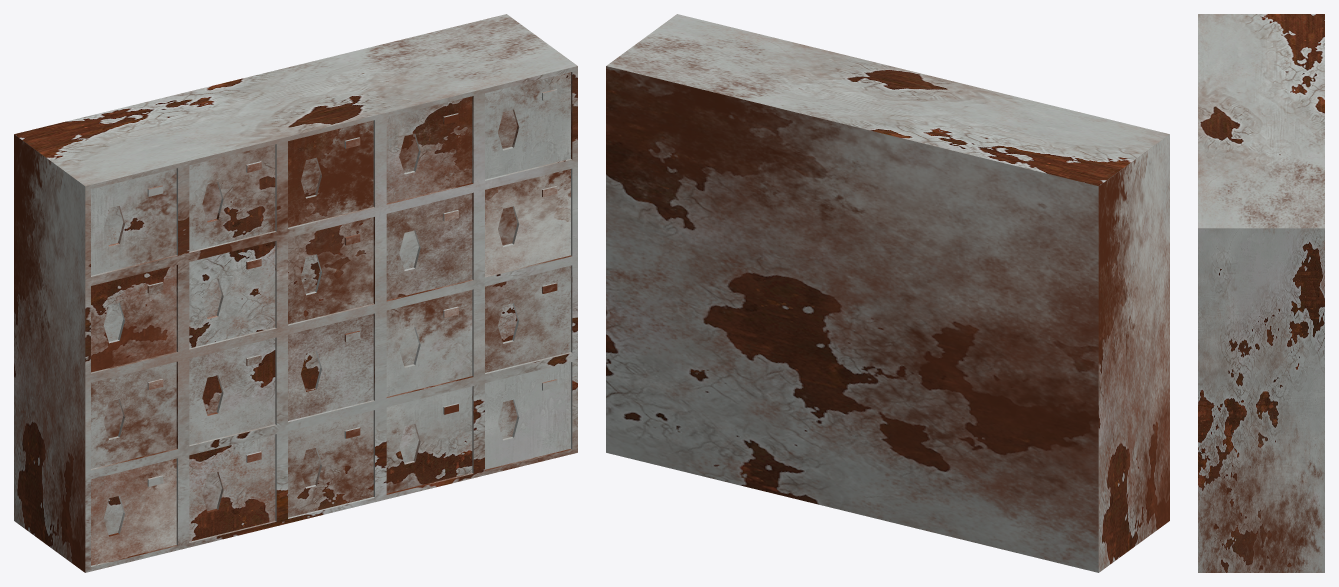
The model's file is 장애물_사물함.fbx.
3 renders of one model, left to right at view 1: azimuth 30°, elevation 25°; view 2: azimuth 150°, elevation 25°; view 3: azimuth 270°, elevation 25°, orthographic. The views are drawn at different scales.
Visible parts, largest first — view 1: 사물함; view 2: 사물함; view 3: 사물함.
Boxes of the visible parts, x1,y1,x2,y2 form: 사물함: (14,14,577,572); 사물함: (606,14,1169,572); 사물함: (1198,14,1324,572).
Size of the model in its own units: 200 by 150 by 50.
